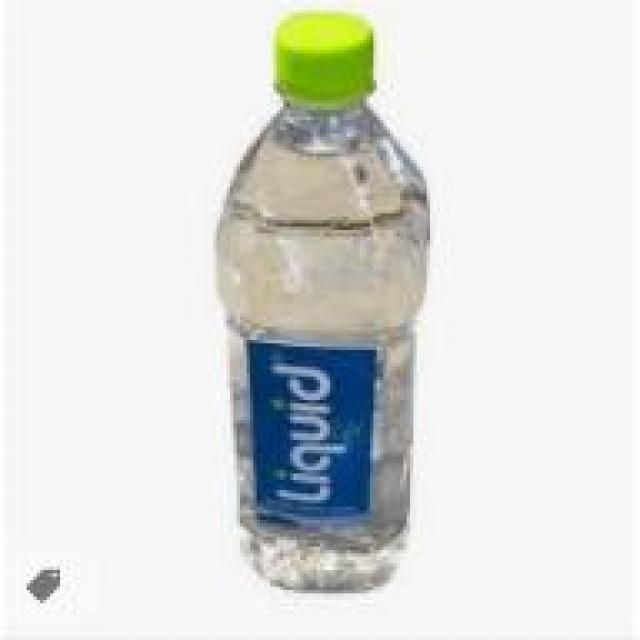bottle: (188, 7, 442, 601)
